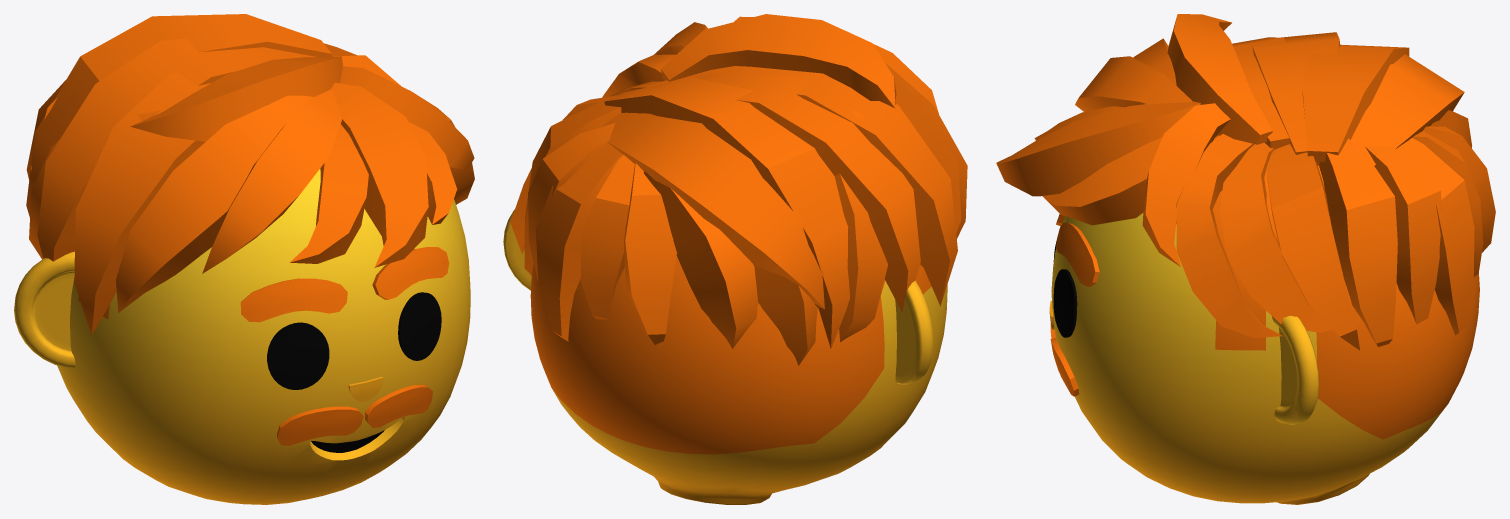
The model's file is man_red_hair.glb.
3 renders of one model, left to right at view 1: azimuth 30°, elevation 25°; view 2: azimuth 150°, elevation 25°; view 3: azimuth 270°, elevation 25°, orthographic. The views are drawn at different scales.
Visible parts, largest first — view 1: Cube.301, Roundcube.010, Circle.315, Circle.317, ears.011, Circle.318, Circle.316; view 2: Cube.301, Roundcube.010, ears.011; view 3: Cube.301, Roundcube.010, ears.011, Circle.317, Circle.315, Circle.318.
Boxes of the visible parts, bbox=[...] form: Cube.301: bbox=[26, 14, 474, 334]; Roundcube.010: bbox=[57, 168, 470, 504]; Circle.315: bbox=[267, 292, 441, 389]; Circle.317: bbox=[240, 247, 449, 322]; ears.011: bbox=[14, 251, 75, 368]; Circle.318: bbox=[277, 384, 432, 445]; Circle.316: bbox=[348, 376, 383, 401]; Cube.301: bbox=[510, 14, 967, 365]; Roundcube.010: bbox=[530, 256, 947, 504]; ears.011: bbox=[503, 209, 933, 384]; Cube.301: bbox=[996, 14, 1495, 350]; Roundcube.010: bbox=[1051, 135, 1479, 504]; ears.011: bbox=[1272, 315, 1318, 424]; Circle.317: bbox=[1056, 214, 1099, 286]; Circle.315: bbox=[1053, 226, 1077, 337]; Circle.318: bbox=[1050, 323, 1079, 396].
Size of the model in its own units: 1.76 by 1.73 by 1.77.
Materials: 2 (2 with a texture image).
